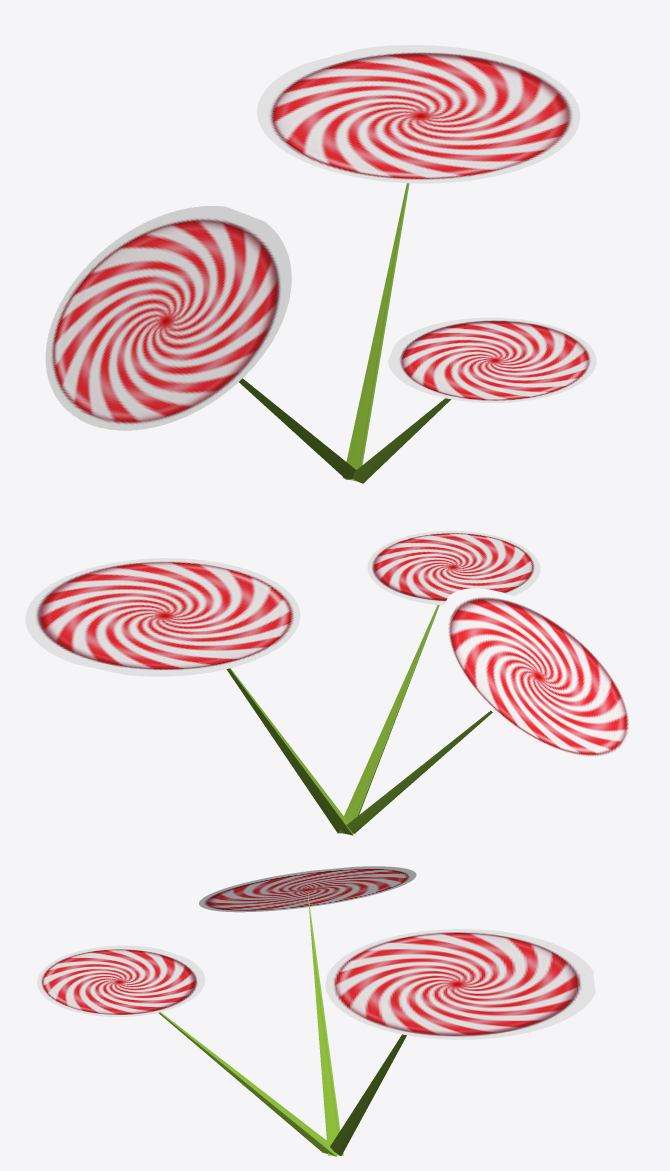
The model's file is flower_1.fbx.
3 renders of one model, top to bottom at view 1: azimuth 30°, elevation 25°; view 2: azimuth 150°, elevation 25°; view 3: azimuth 270°, elevation 25°, orthographic. The views are drawn at different scales.
Visible parts, largest first — view 1: flower_1; view 2: flower_1; view 3: flower_1.
Boxes of the visible parts, bbox=[...] form: flower_1: bbox=[45, 45, 596, 483]; flower_1: bbox=[25, 530, 634, 835]; flower_1: bbox=[37, 866, 595, 1156].
Size of the model in its own units: 68.05 by 30.25 by 66.16.
